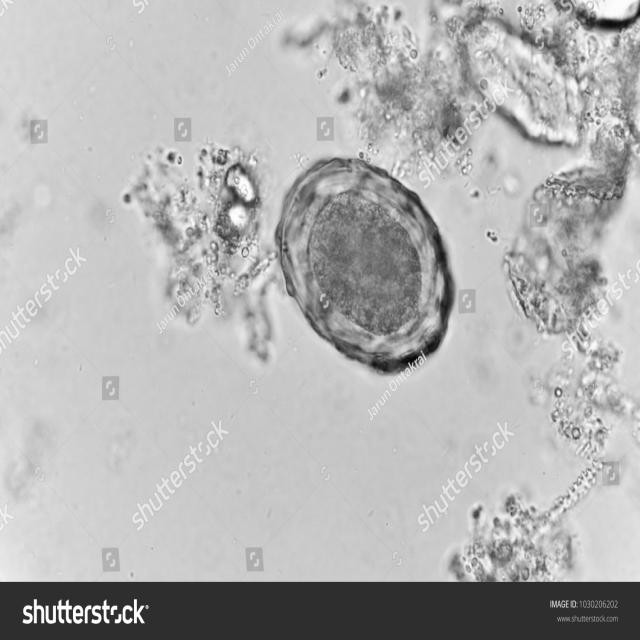Ascaris Lumbricoides: (276, 154, 458, 387)
